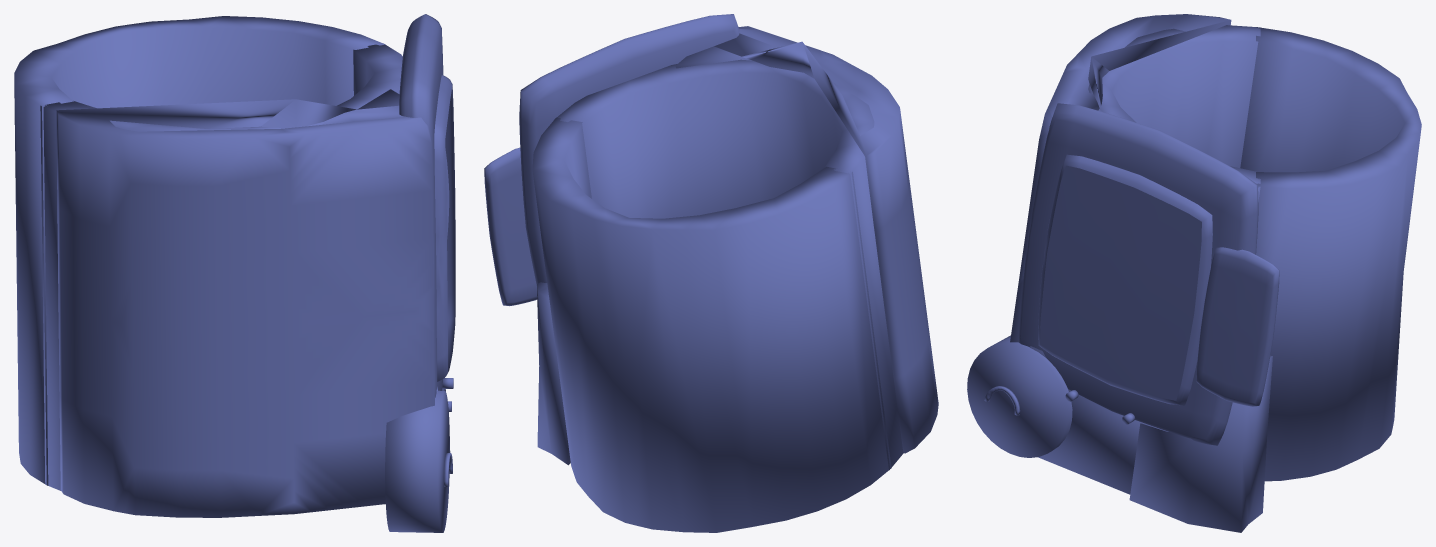
File: pip1.obj
3 renders of one model, left to right at view 1: azimuth 30°, elevation 25°; view 2: azimuth 150°, elevation 25°; view 3: azimuth 270°, elevation 25°, orthographic. The views are drawn at different scales.
Visible parts, largest first — view 1: pip1; view 2: pip1; view 3: pip1.
Boxes of the visible parts, x1,y1,x2,y2 form: pip1: (14,14,455,532); pip1: (484,14,938,532); pip1: (967,14,1421,532).
Bounding box in the file's own units: 7.64 × 7.56 × 8.06.
